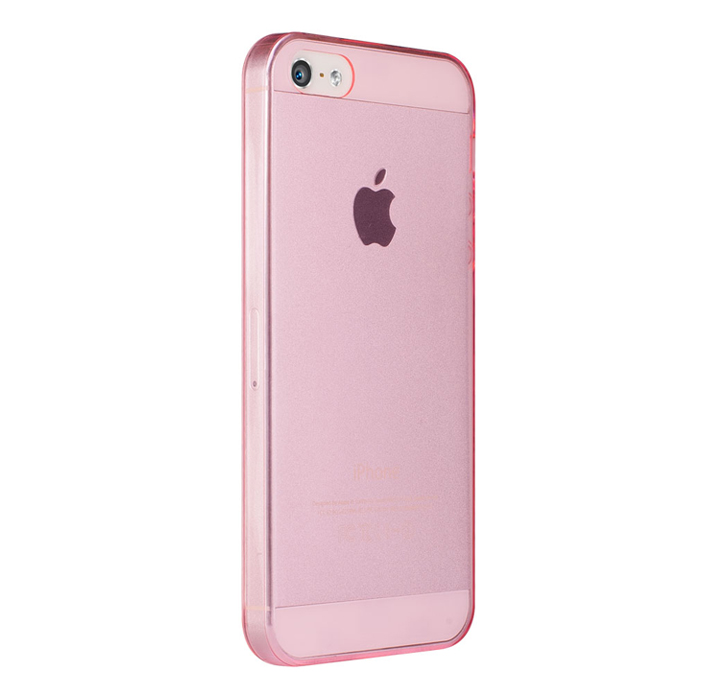apple: (330, 162, 423, 264)
